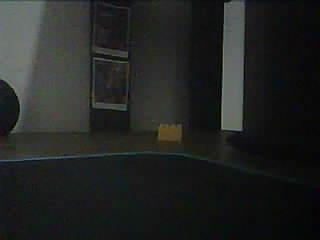lego: (157, 122, 183, 142)
